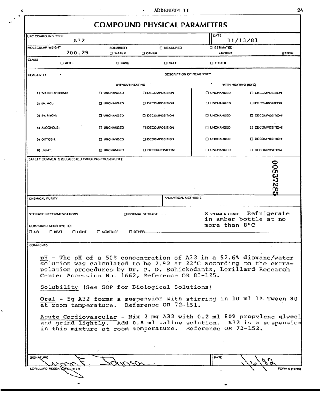checkbox: (158, 46, 163, 50), (115, 61, 119, 65), (98, 91, 102, 95), (98, 101, 102, 105), (98, 114, 102, 118), (98, 126, 102, 130), (98, 137, 102, 141), (98, 149, 102, 153), (142, 148, 146, 152), (142, 137, 146, 141), (142, 126, 146, 130), (142, 114, 146, 118), (142, 102, 146, 106), (142, 91, 146, 95), (205, 91, 209, 95), (205, 101, 209, 105), (205, 114, 209, 118), (205, 125, 209, 129), (205, 137, 209, 141), (205, 148, 209, 152), (249, 148, 253, 152), (249, 137, 253, 141), (249, 126, 253, 130), (249, 114, 253, 118), (249, 101, 253, 105), (249, 91, 253, 95), (123, 212, 127, 216), (128, 230, 132, 234), (97, 230, 101, 234), (72, 230, 76, 234), (49, 230, 53, 234), (28, 230, 32, 234), (109, 52, 113, 55), (141, 51, 144, 55), (209, 47, 213, 50), (60, 62, 64, 65), (163, 62, 167, 65), (210, 61, 213, 65)
textbox: (27, 241, 302, 356), (26, 155, 302, 196), (25, 43, 301, 57), (25, 354, 213, 368), (25, 33, 210, 45), (26, 194, 163, 208), (162, 194, 302, 207), (211, 353, 303, 367), (210, 31, 301, 45)
textline: (144, 230, 300, 233)
